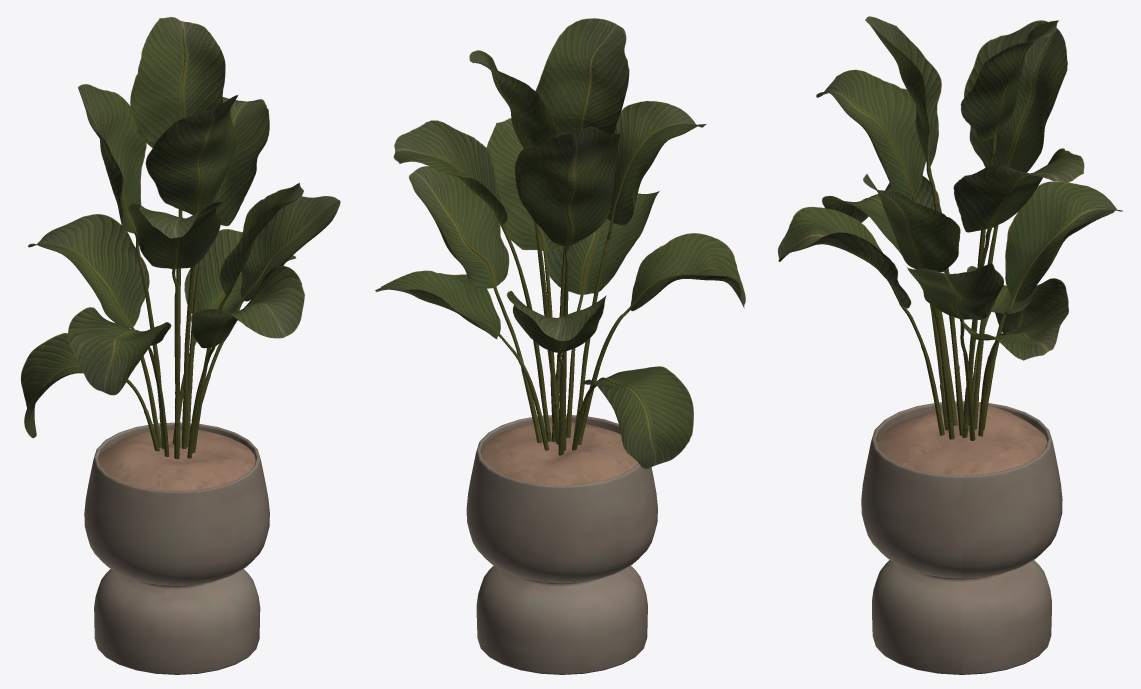
File: fafdbaf8-70f0-4965-a76d-5f096a22b7d5.glb
3 renders of one model, left to right at view 1: azimuth 30°, elevation 25°; view 2: azimuth 150°, elevation 25°; view 3: azimuth 270°, elevation 25°, orthographic. The views are drawn at different scales.
Parts seen in each view (by area): view 1: Indoor Plant - Cuban Cigar.002; view 2: Indoor Plant - Cuban Cigar.002; view 3: Indoor Plant - Cuban Cigar.002.
Boxes of the visible parts, left/top/right/bottom form: Indoor Plant - Cuban Cigar.002: left=21, top=17, right=340, bottom=674; Indoor Plant - Cuban Cigar.002: left=375, top=18, right=745, bottom=674; Indoor Plant - Cuban Cigar.002: left=778, top=16, right=1122, bottom=674.
Size of the model in its own units: 0.8685 by 1.62 by 0.8112.
4 materials, 4 textured.
